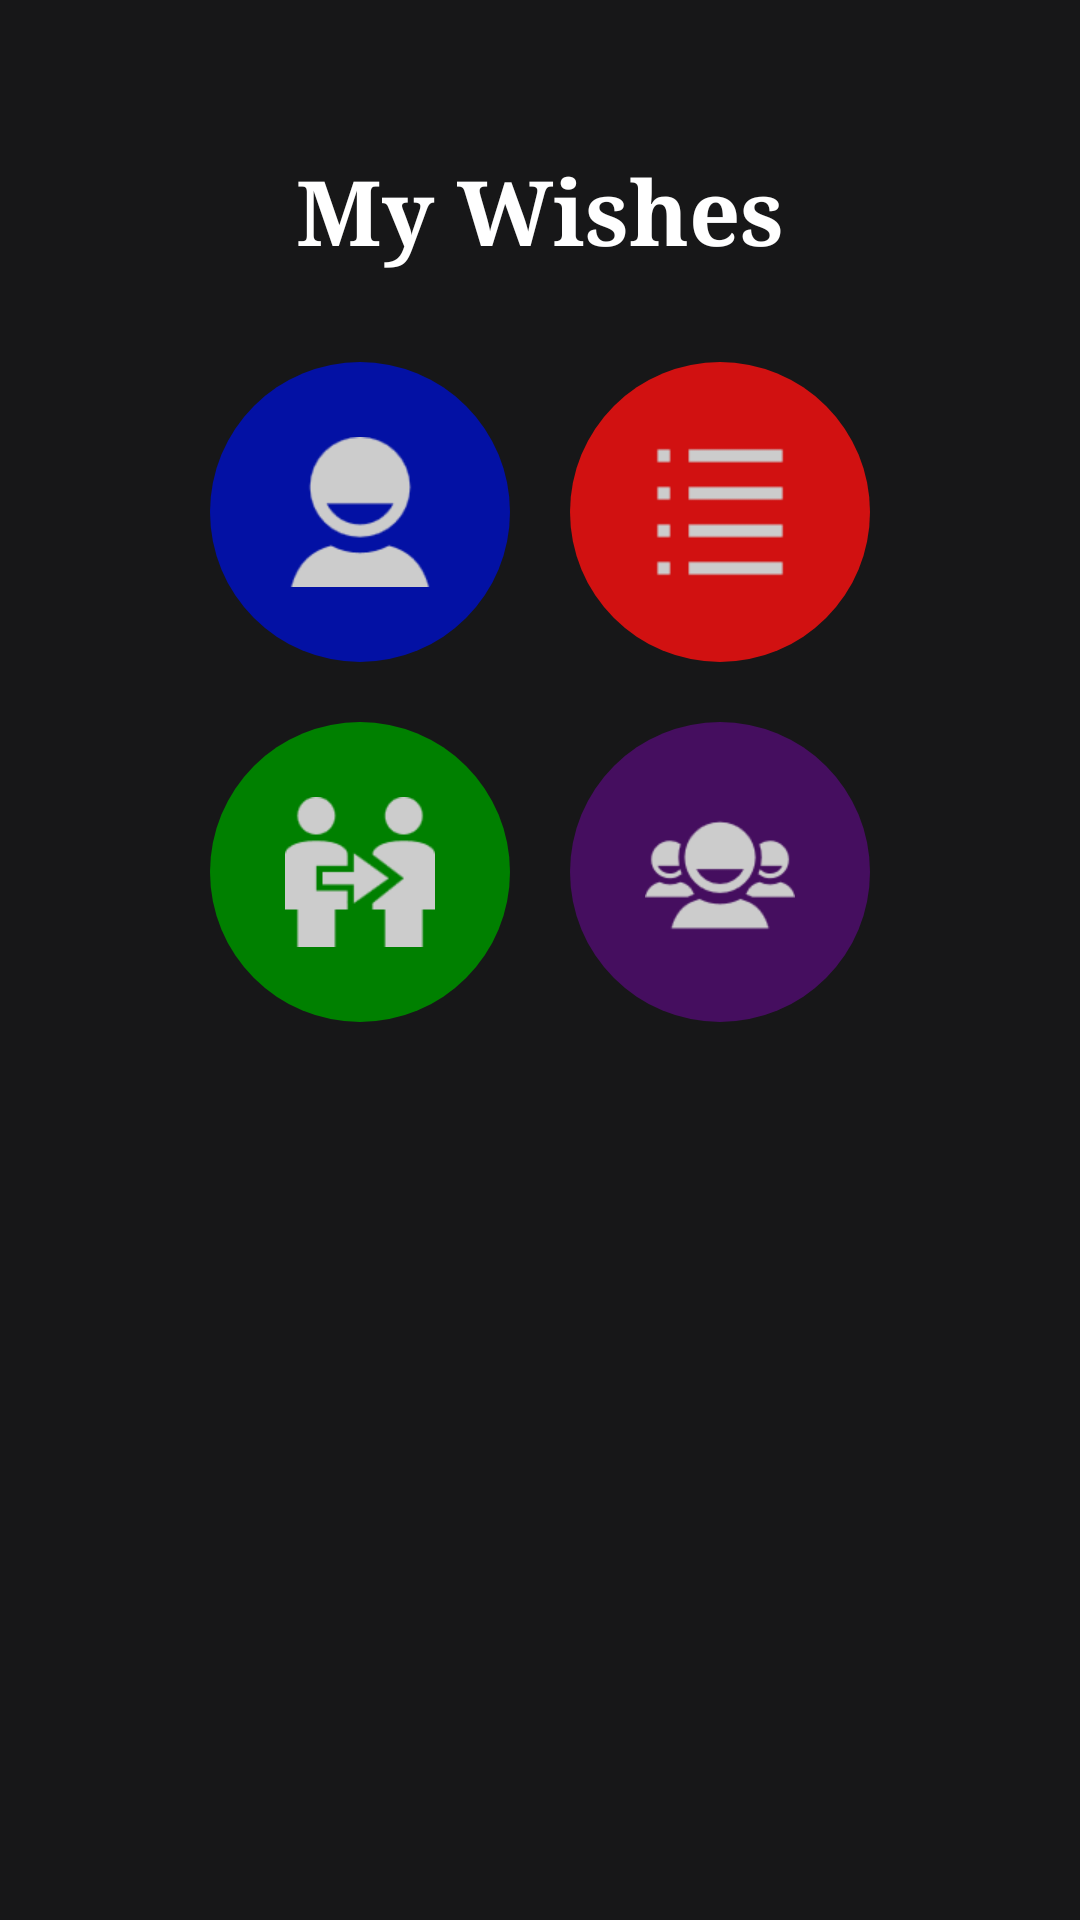

Named icons in this screenshot (1080px x 1920px) and their bounding boxes, (x1, y1, x2, y2):
list lollipop: (657, 449, 783, 575)
user: (291, 437, 429, 587)
user group: (645, 821, 795, 929)
